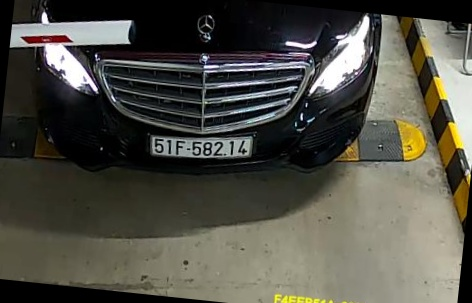plate: (143, 124, 260, 167)
